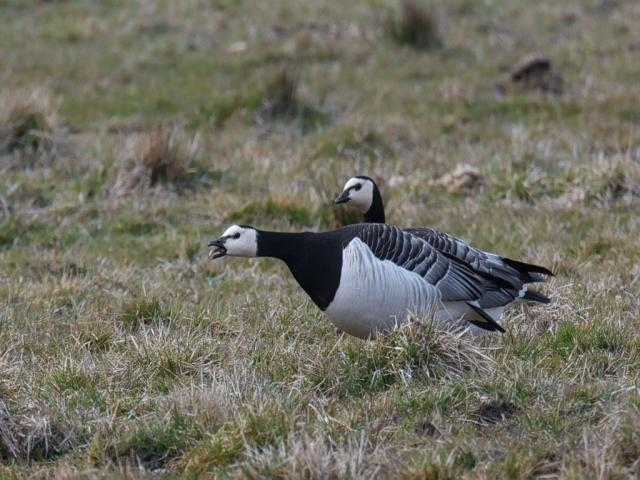Bird: (209, 221, 555, 345), (328, 173, 554, 333)
